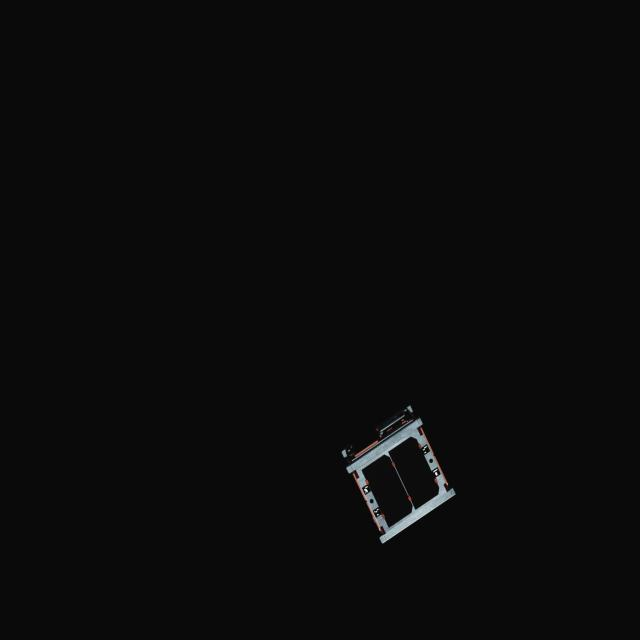medium_debris: (342, 410, 455, 538)
